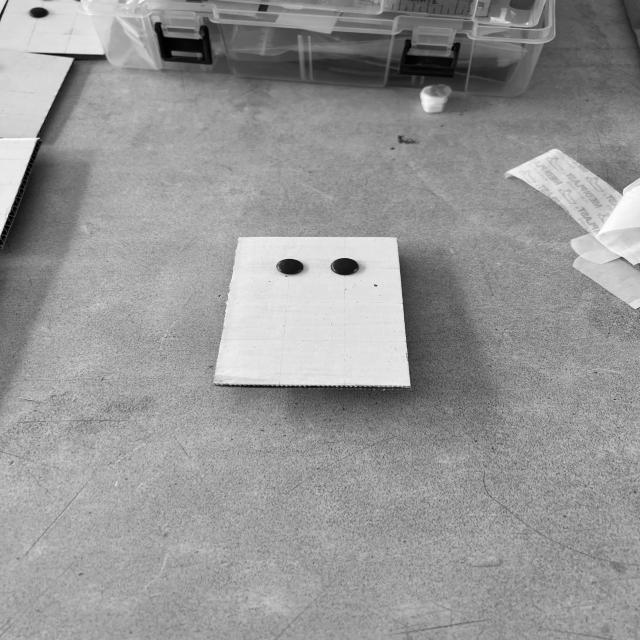braiile: (221, 237, 405, 382)
